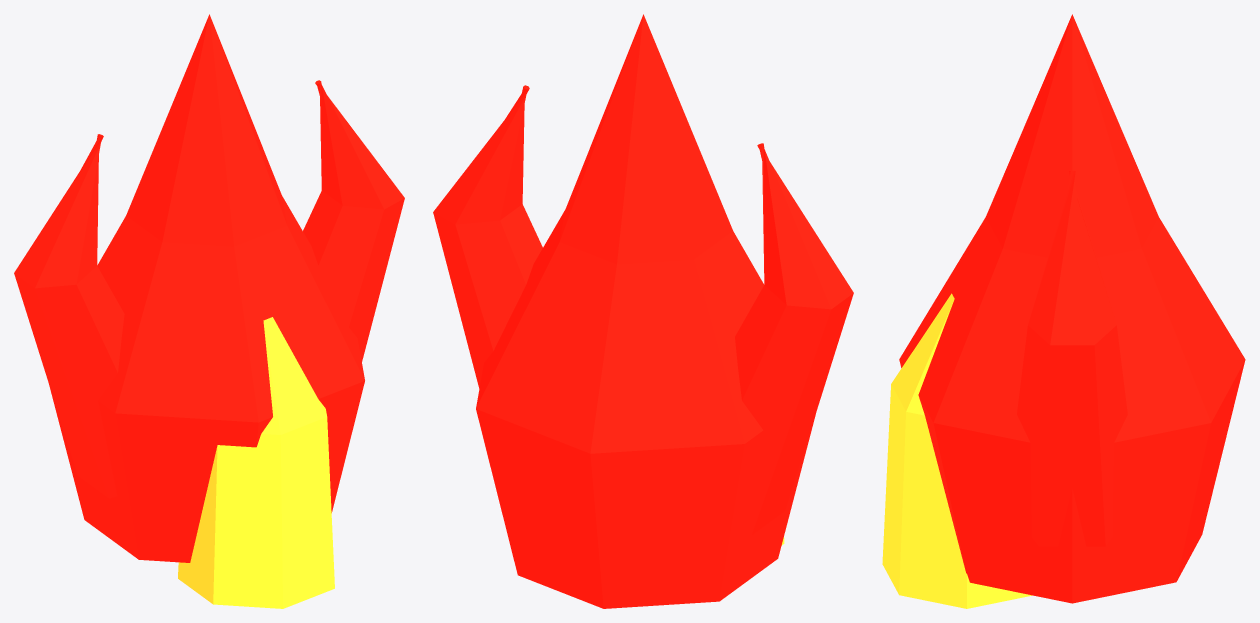
File: evil_hand_flame.glb
3 renders of one model, left to right at view 1: azimuth 30°, elevation 25°; view 2: azimuth 150°, elevation 25°; view 3: azimuth 270°, elevation 25°, orthographic. The views are drawn at different scales.
Parts seen in each view (by area): view 1: Red magical flame.001, Bright flame heart.001, Curling flame tongue.002, Curling flame tongue.003; view 2: Red magical flame.001, Curling flame tongue.002, Curling flame tongue.003; view 3: Red magical flame.001, Curling flame tongue.003, Bright flame heart.001.
Part boxes in pixels (box(x1,y1,x2,y2)): Red magical flame.001: box(49, 14, 364, 562); Bright flame heart.001: box(178, 317, 334, 608); Curling flame tongue.002: box(14, 134, 124, 498); Curling flame tongue.003: box(303, 80, 404, 361); Red magical flame.001: box(476, 14, 815, 608); Curling flame tongue.002: box(735, 143, 853, 535); Curling flame tongue.003: box(433, 85, 542, 388); Red magical flame.001: box(899, 14, 1245, 603); Curling flame tongue.003: box(1017, 170, 1127, 546); Bright flame heart.001: box(882, 293, 1032, 608).
Bounding box in the file's own units: 0.2657 × 0.3607 × 0.2126.
